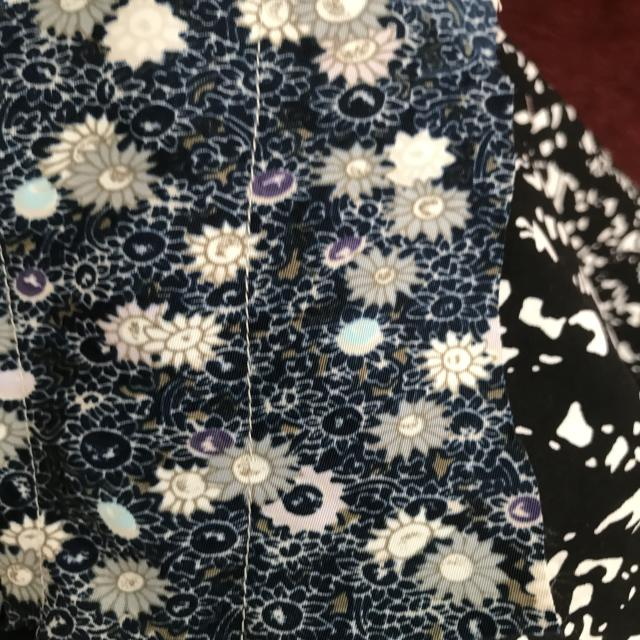good: (235, 312, 261, 432)
